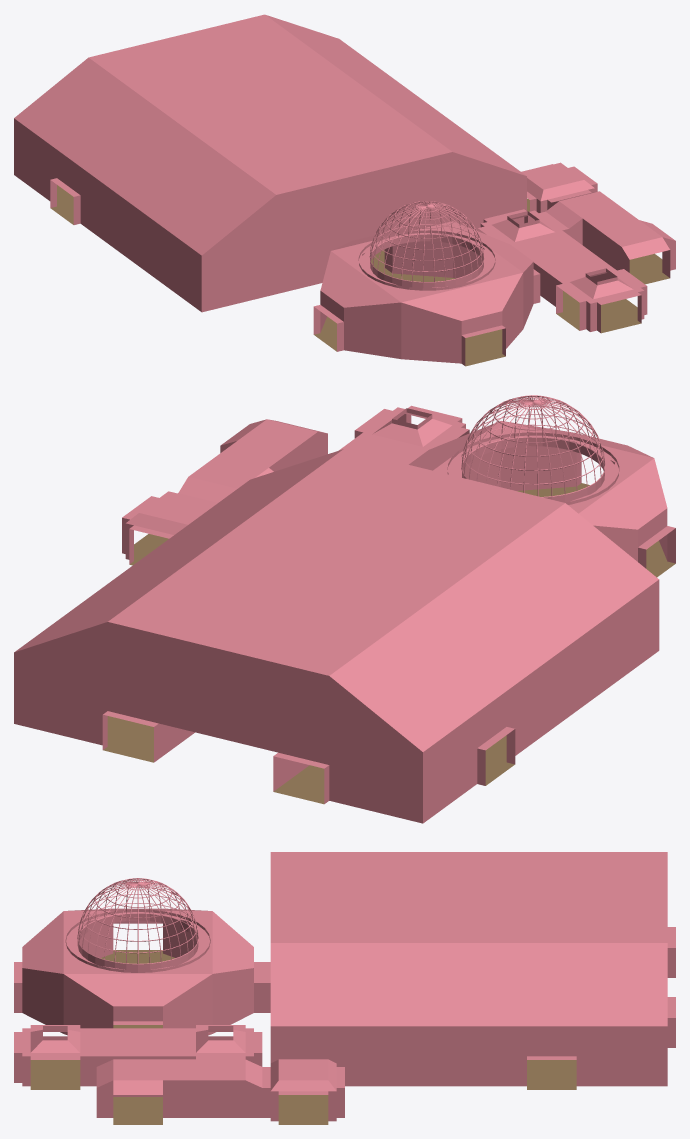
Rendered from LevelSegments.fbx.
3 renders of one model, top to bottom at view 1: azimuth 30°, elevation 25°; view 2: azimuth 150°, elevation 25°; view 3: azimuth 270°, elevation 25°, orthographic. The views are drawn at different scales.
Parts seen in each view (by area): view 1: 5x5Arena, 3x3Arena, 1x3Hall, 1x2Hall, 1x1Junct; view 2: 5x5Arena, 3x3Arena, 1x2Hall, 1x3Hall, 1x1Junct; view 3: 5x5Arena, 3x3Arena, 1x3Hall, 1x2Hall, 1x1Junct.
Part boxes in pixels (box(x1,y1,x2,y2)): 5x5Arena: box(14, 14, 526, 312); 3x3Arena: box(313, 201, 540, 366); 1x3Hall: box(478, 209, 647, 333); 1x2Hall: box(546, 191, 675, 284); 1x1Junct: box(521, 162, 597, 212); 5x5Arena: box(14, 449, 659, 823); 3x3Arena: box(409, 395, 675, 577); 1x2Hall: box(178, 419, 327, 502); 1x3Hall: box(339, 405, 469, 464); 1x1Junct: box(122, 491, 217, 565); 5x5Arena: box(262, 852, 675, 1089); 3x3Arena: box(14, 878, 262, 1035); 1x3Hall: box(14, 1025, 262, 1089); 1x2Hall: box(96, 1059, 262, 1124); 1x1Junct: box(262, 1059, 344, 1124).
Bounding box in the file's own units: 6000 × 1584 × 8000.
